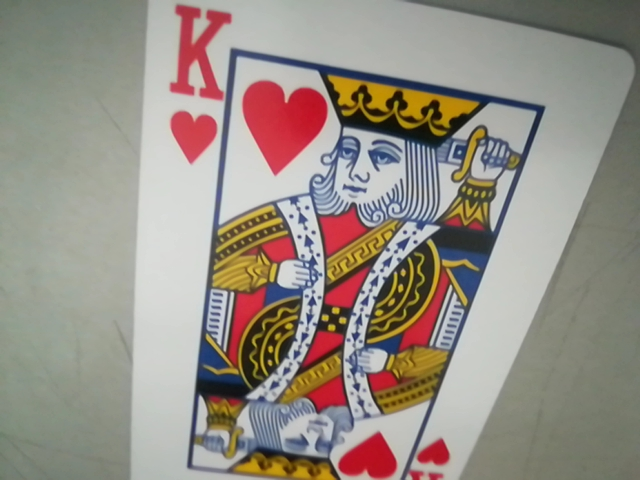hx k: (160, 2, 227, 166)
